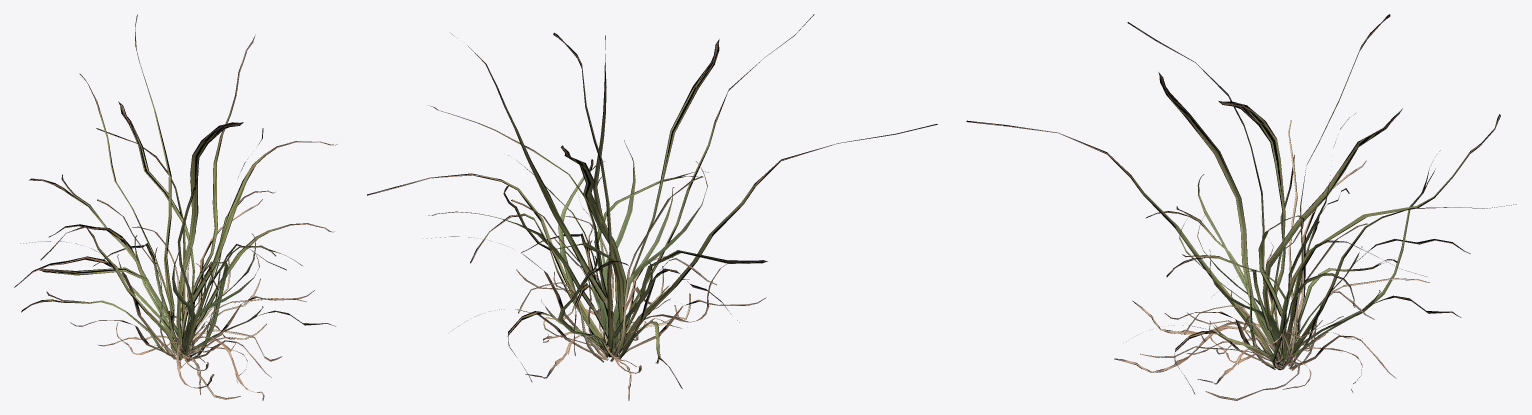
File: grass_medium_02_v4.gltf
3 renders of one model, left to right at view 1: azimuth 30°, elevation 25°; view 2: azimuth 150°, elevation 25°; view 3: azimuth 270°, elevation 25°, orthographic. The views are drawn at different scales.
Parts seen in each view (by area): view 1: grass_medium_02_v4; view 2: grass_medium_02_v4; view 3: grass_medium_02_v4.
Part boxes in pixels (bbox=[...]): grass_medium_02_v4: bbox=[14, 14, 337, 400]; grass_medium_02_v4: bbox=[367, 14, 937, 400]; grass_medium_02_v4: bbox=[966, 14, 1516, 400].
Size of the model in its own units: 0.3174 by 0.2604 by 0.3619.
1 material, 1 textured.
